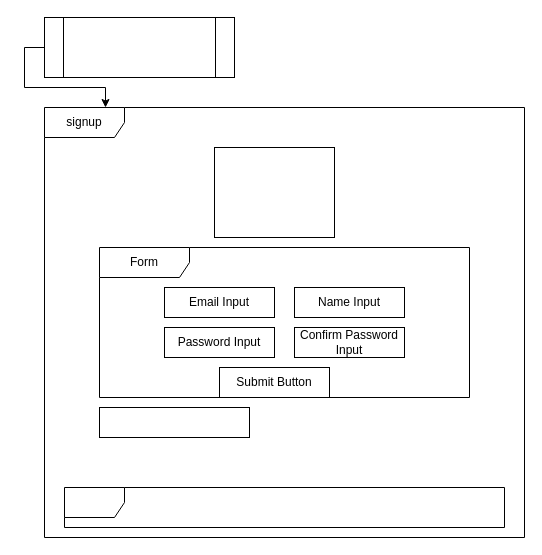
This 542x555 diagram has some shape labels left out. The shapes that lost their labels are listed below. From the top down, each one's centre as x and y in pixels, then its label:
At [139,47]: "Frontend".
At [274,192]: "Logo".
At [174,422]: "Se connecter?".
At [284,507]: "Footer".
